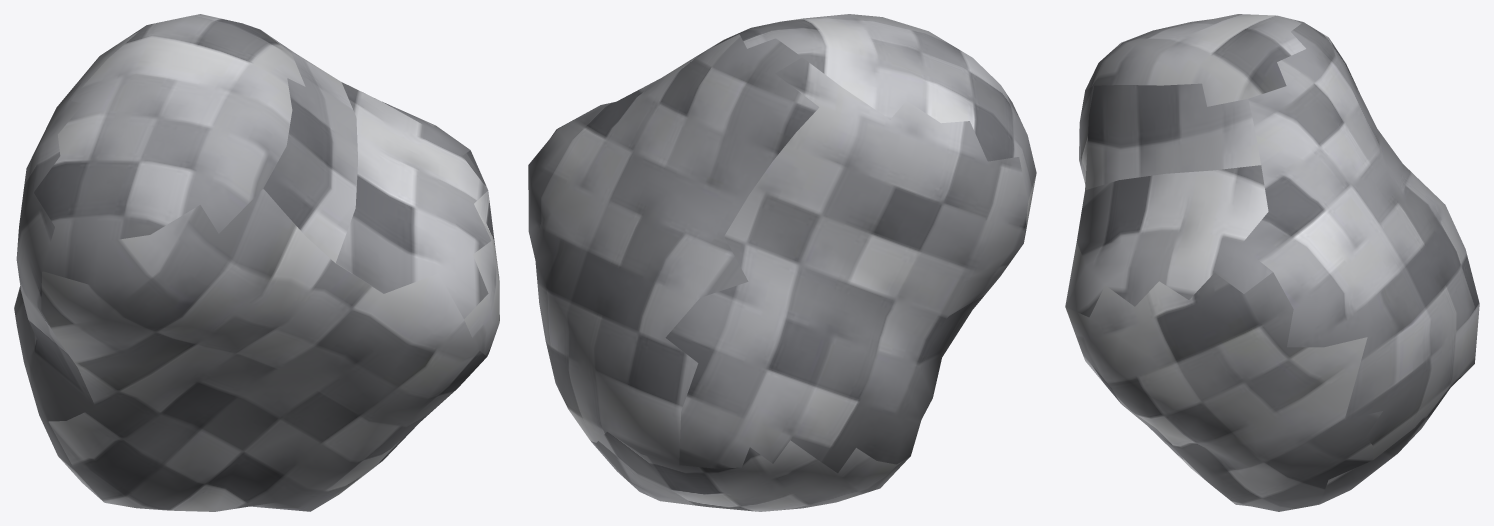
Rendered from Rock 05.fbx.
3 renders of one model, left to right at view 1: azimuth 30°, elevation 25°; view 2: azimuth 150°, elevation 25°; view 3: azimuth 270°, elevation 25°, orthographic. The views are drawn at different scales.
Visible parts, largest first — view 1: Rock.005; view 2: Rock.005; view 3: Rock.005.
Boxes of the visible parts, x1=… form: Rock.005: x1=14, y1=14, x2=499, y2=511; Rock.005: x1=528, y1=14, x2=1036, y2=511; Rock.005: x1=1065, y1=14, x2=1479, y2=511.
Size of the model in its own units: 0.6418 by 0.7493 by 0.7284.
